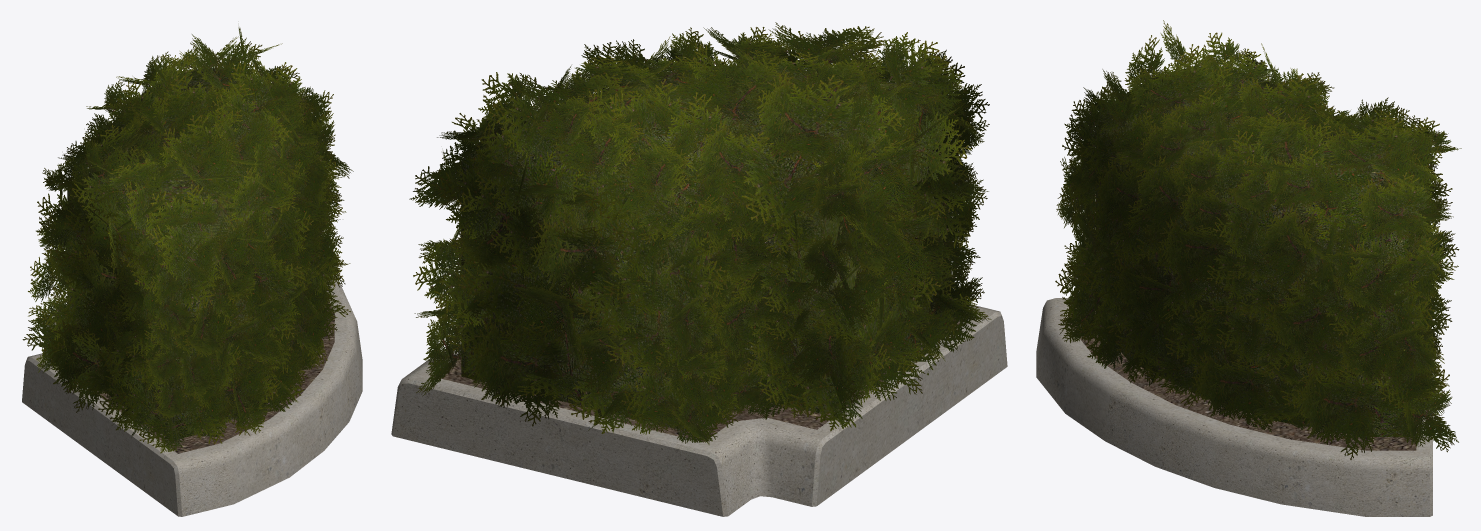
File: hedge_02_corner.FBX
The picture shows the model from 3 angles, left to right: view 1: azimuth 30°, elevation 25°; view 2: azimuth 150°, elevation 25°; view 3: azimuth 270°, elevation 25°; orthographic projection. The views are drawn at different scales.
Visible parts, largest first — view 1: hedge_02_corner; view 2: hedge_02_corner; view 3: hedge_02_corner.
Boxes of the visible parts, x1,y1,x2,y2 form: hedge_02_corner: [22, 27, 362, 516]; hedge_02_corner: [391, 22, 1007, 516]; hedge_02_corner: [1036, 20, 1461, 516].
Bounding box in the file's own units: 97.01 × 82.57 × 94.89.
